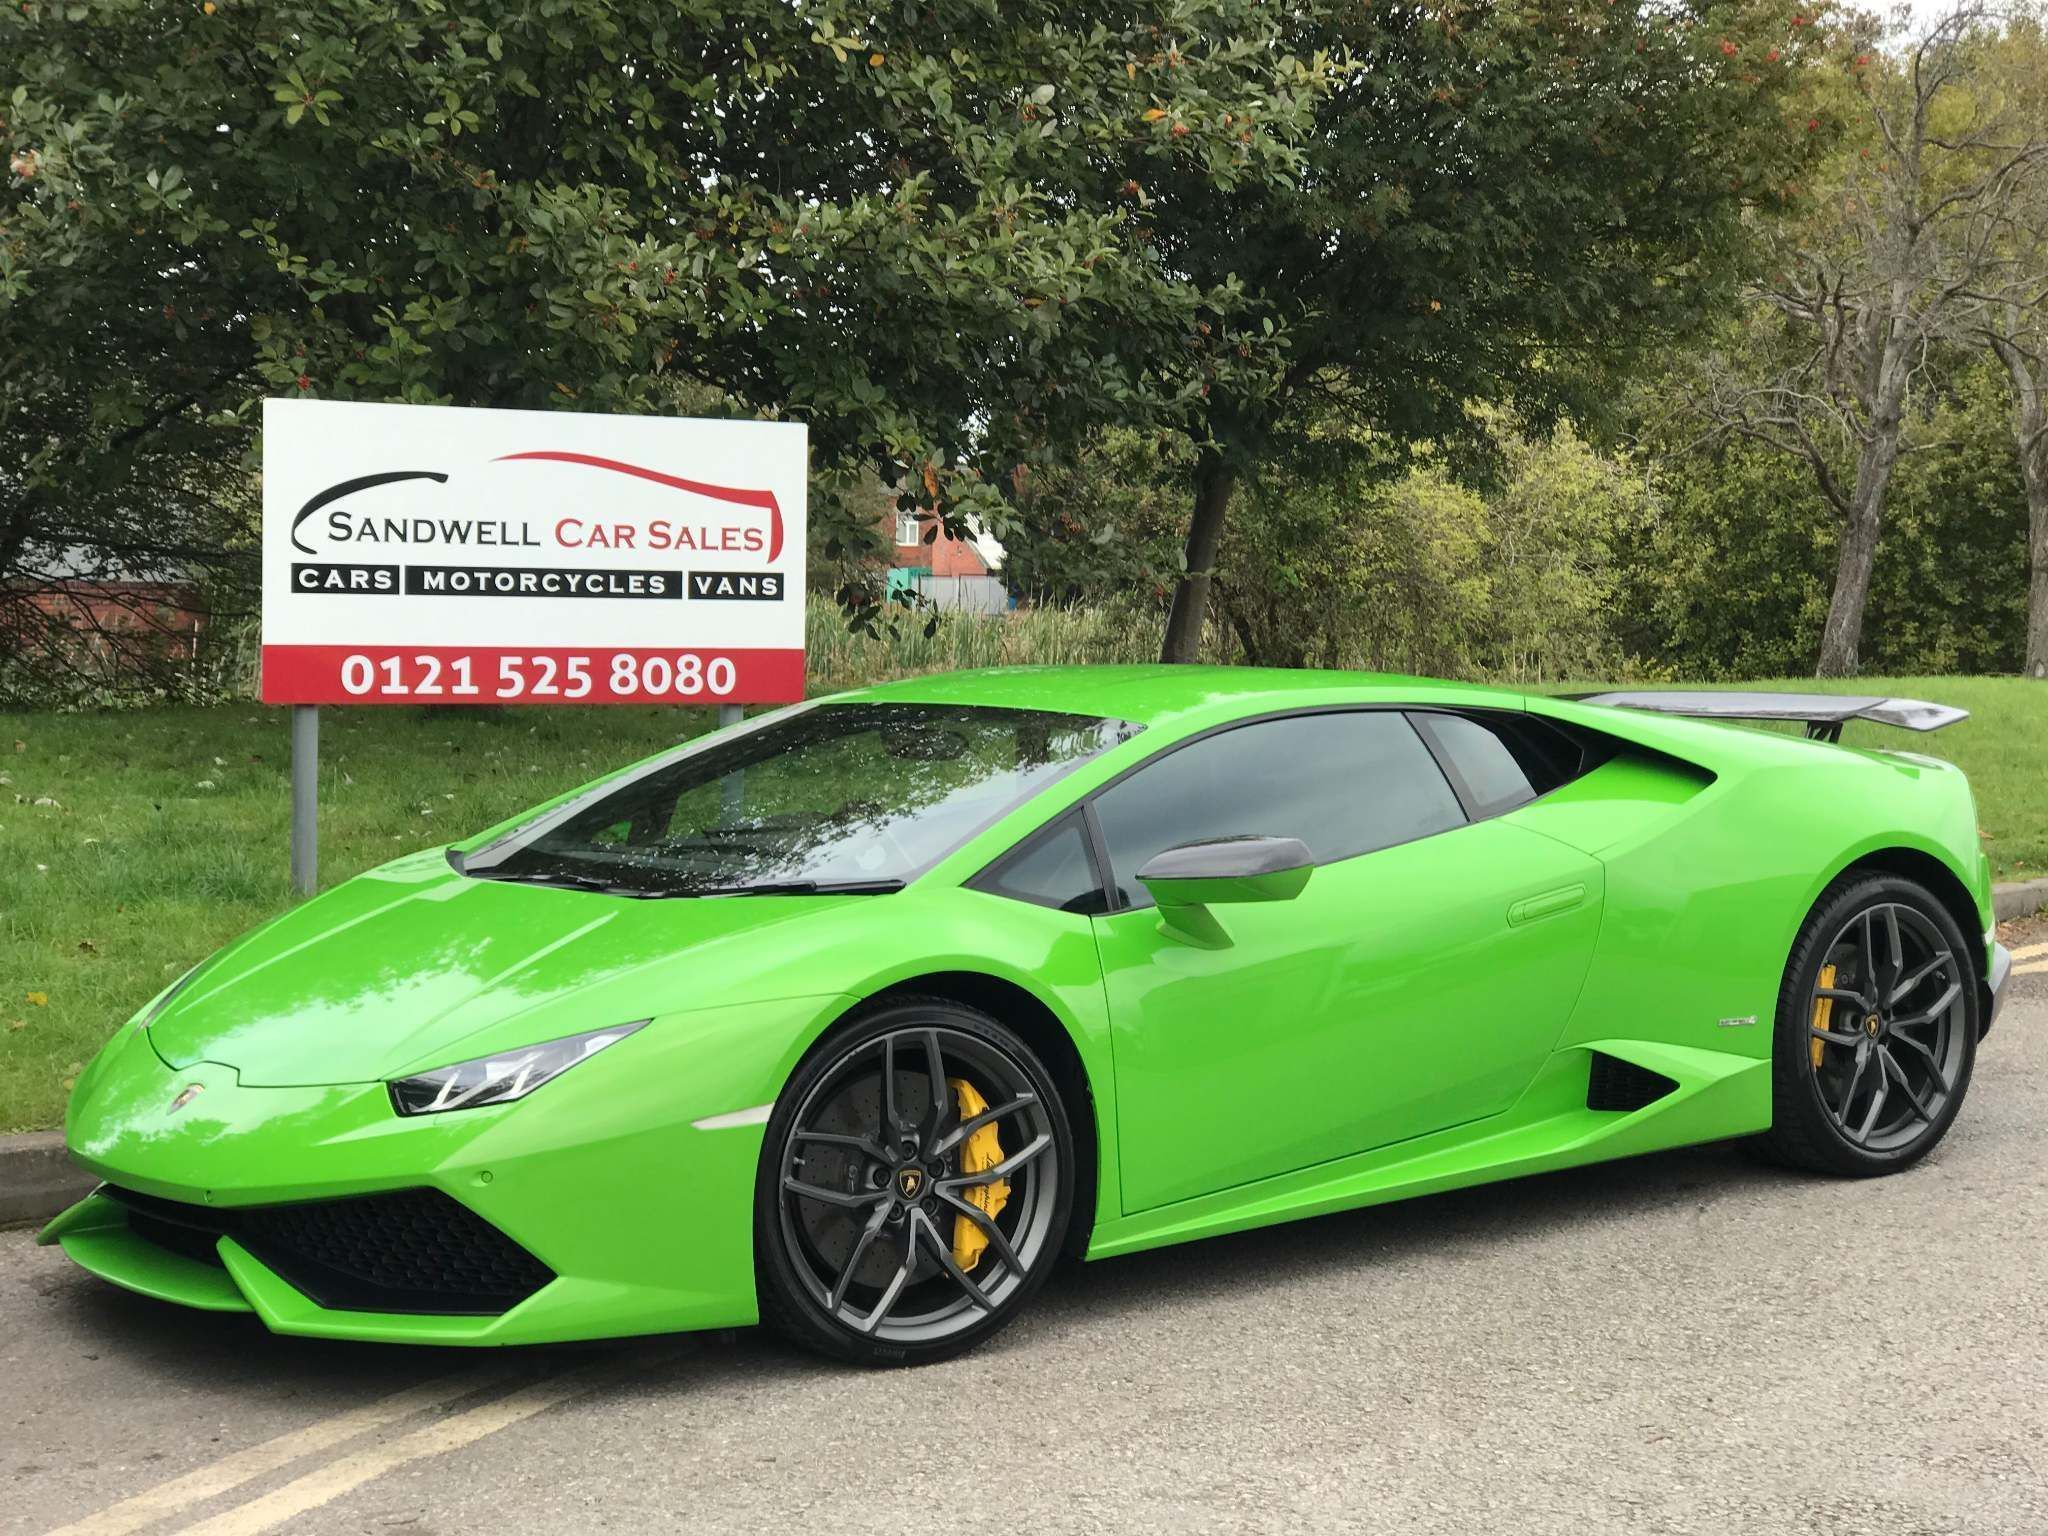car: (53, 671, 2004, 1325)
